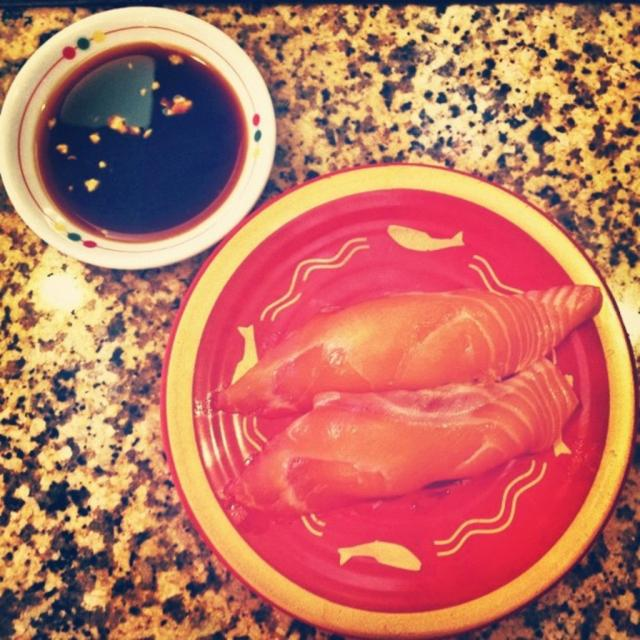Tea: (34, 39, 246, 242)
